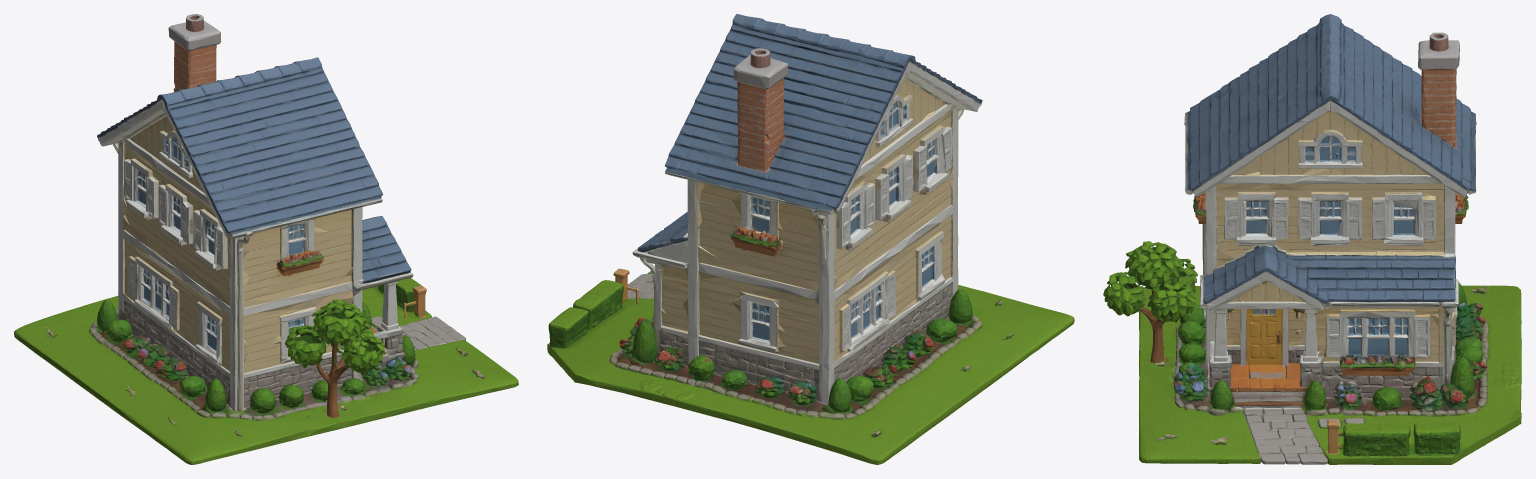
File: house_2storyB_yellow.glb
3 renders of one model, left to right at view 1: azimuth 30°, elevation 25°; view 2: azimuth 150°, elevation 25°; view 3: azimuth 270°, elevation 25°, orthographic. The views are drawn at different scales.
Visible parts, largest first — view 1: tripo_node_a7f5d92a-fcfe-4a20-bbd8-f4b1a9c65999; view 2: tripo_node_a7f5d92a-fcfe-4a20-bbd8-f4b1a9c65999; view 3: tripo_node_a7f5d92a-fcfe-4a20-bbd8-f4b1a9c65999.
Boxes of the visible parts, box(x1,y1,x2,y2) form: tripo_node_a7f5d92a-fcfe-4a20-bbd8-f4b1a9c65999: box(14, 14, 518, 464); tripo_node_a7f5d92a-fcfe-4a20-bbd8-f4b1a9c65999: box(547, 14, 1074, 464); tripo_node_a7f5d92a-fcfe-4a20-bbd8-f4b1a9c65999: box(1103, 14, 1521, 464).
Bounding box in the file's own units: 0.9857 × 0.8771 × 1.
1 material, 1 textured.
